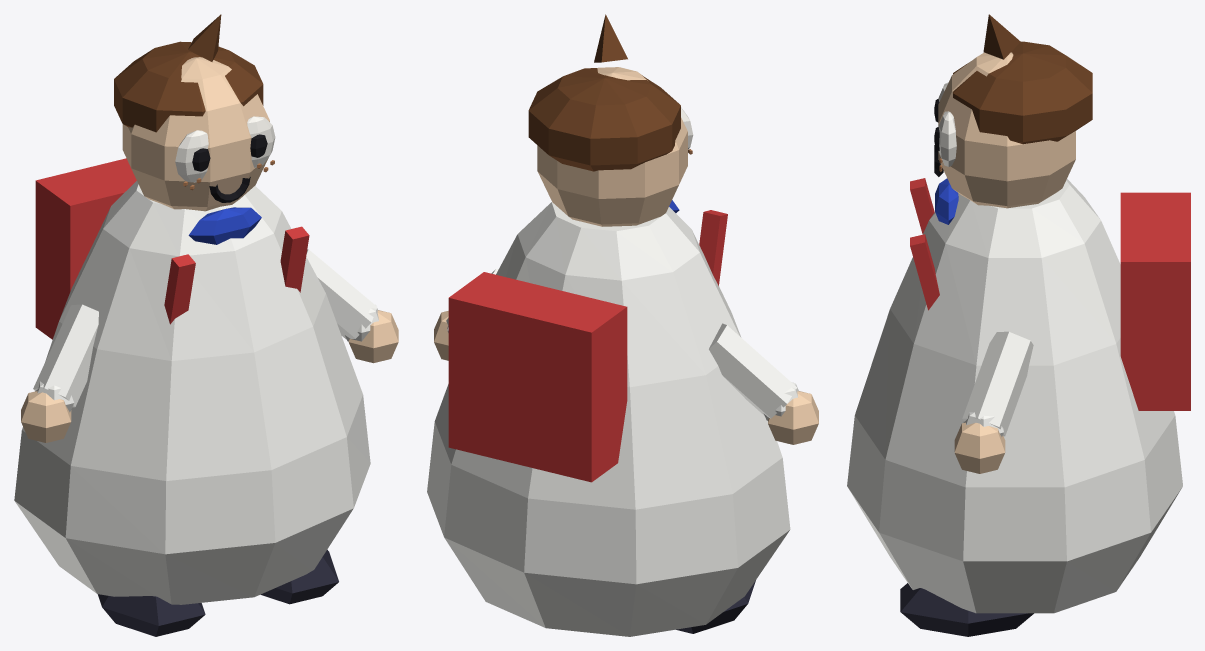
File: npc_alumno_primaria.glb
The picture shows the model from 3 angles, left to right: view 1: azimuth 30°, elevation 25°; view 2: azimuth 150°, elevation 25°; view 3: azimuth 270°, elevation 25°; orthographic projection.
Parts seen in each view (by area): view 1: body_school_smock, body_bag_red, head_skin_crema, head_hair_brown, arms_school_smock, legs_school_shoes, arms_skin_crema, body_smock_bow, face_white, face_black; view 2: body_school_smock, body_bag_red, head_hair_brown, head_skin_crema, arms_school_smock, arms_skin_crema, legs_school_shoes; view 3: body_school_smock, body_bag_red, head_hair_brown, head_skin_crema, arms_school_smock, legs_school_shoes, arms_skin_crema, face_white, body_smock_bow.
Boxes of the visible parts, x1=… form: body_school_smock: x1=14, y1=181, x2=370, y2=604; body_bag_red: x1=35, y1=158, x2=309, y2=339; head_skin_crema: x1=122, y1=57, x2=269, y2=211; head_hair_brown: x1=114, y1=14, x2=263, y2=132; arms_school_smock: x1=33, y1=249, x2=378, y2=412; legs_school_shoes: x1=97, y1=549, x2=338, y2=636; arms_skin_crema: x1=21, y1=310, x2=398, y2=442; body_smock_bow: x1=188, y1=207, x2=261, y2=244; face_white: x1=175, y1=116, x2=275, y2=182; face_black: x1=192, y1=134, x2=267, y2=202; body_school_smock: x1=427, y1=202, x2=790, y2=636; body_bag_red: x1=448, y1=210, x2=727, y2=482; head_hair_brown: x1=528, y1=14, x2=680, y2=171; head_skin_crema: x1=537, y1=67, x2=687, y2=226; arms_school_smock: x1=446, y1=269, x2=798, y2=420; arms_skin_crema: x1=434, y1=311, x2=818, y2=444; legs_school_shoes: x1=676, y1=580, x2=755, y2=633; body_school_smock: x1=847, y1=179, x2=1182, y2=613; body_bag_red: x1=910, y1=178, x2=1190, y2=410; head_hair_brown: x1=953, y1=14, x2=1092, y2=144; head_skin_crema: x1=938, y1=52, x2=1075, y2=208; arms_school_smock: x1=962, y1=331, x2=1033, y2=436; legs_school_shoes: x1=900, y1=583, x2=1033, y2=636; arms_skin_crema: x1=954, y1=422, x2=1005, y2=473; face_white: x1=938, y1=82, x2=956, y2=166; body_smock_bow: x1=935, y1=178, x2=958, y2=224.
Bounding box in the file's own units: 1.13 × 1.66 × 0.88.
